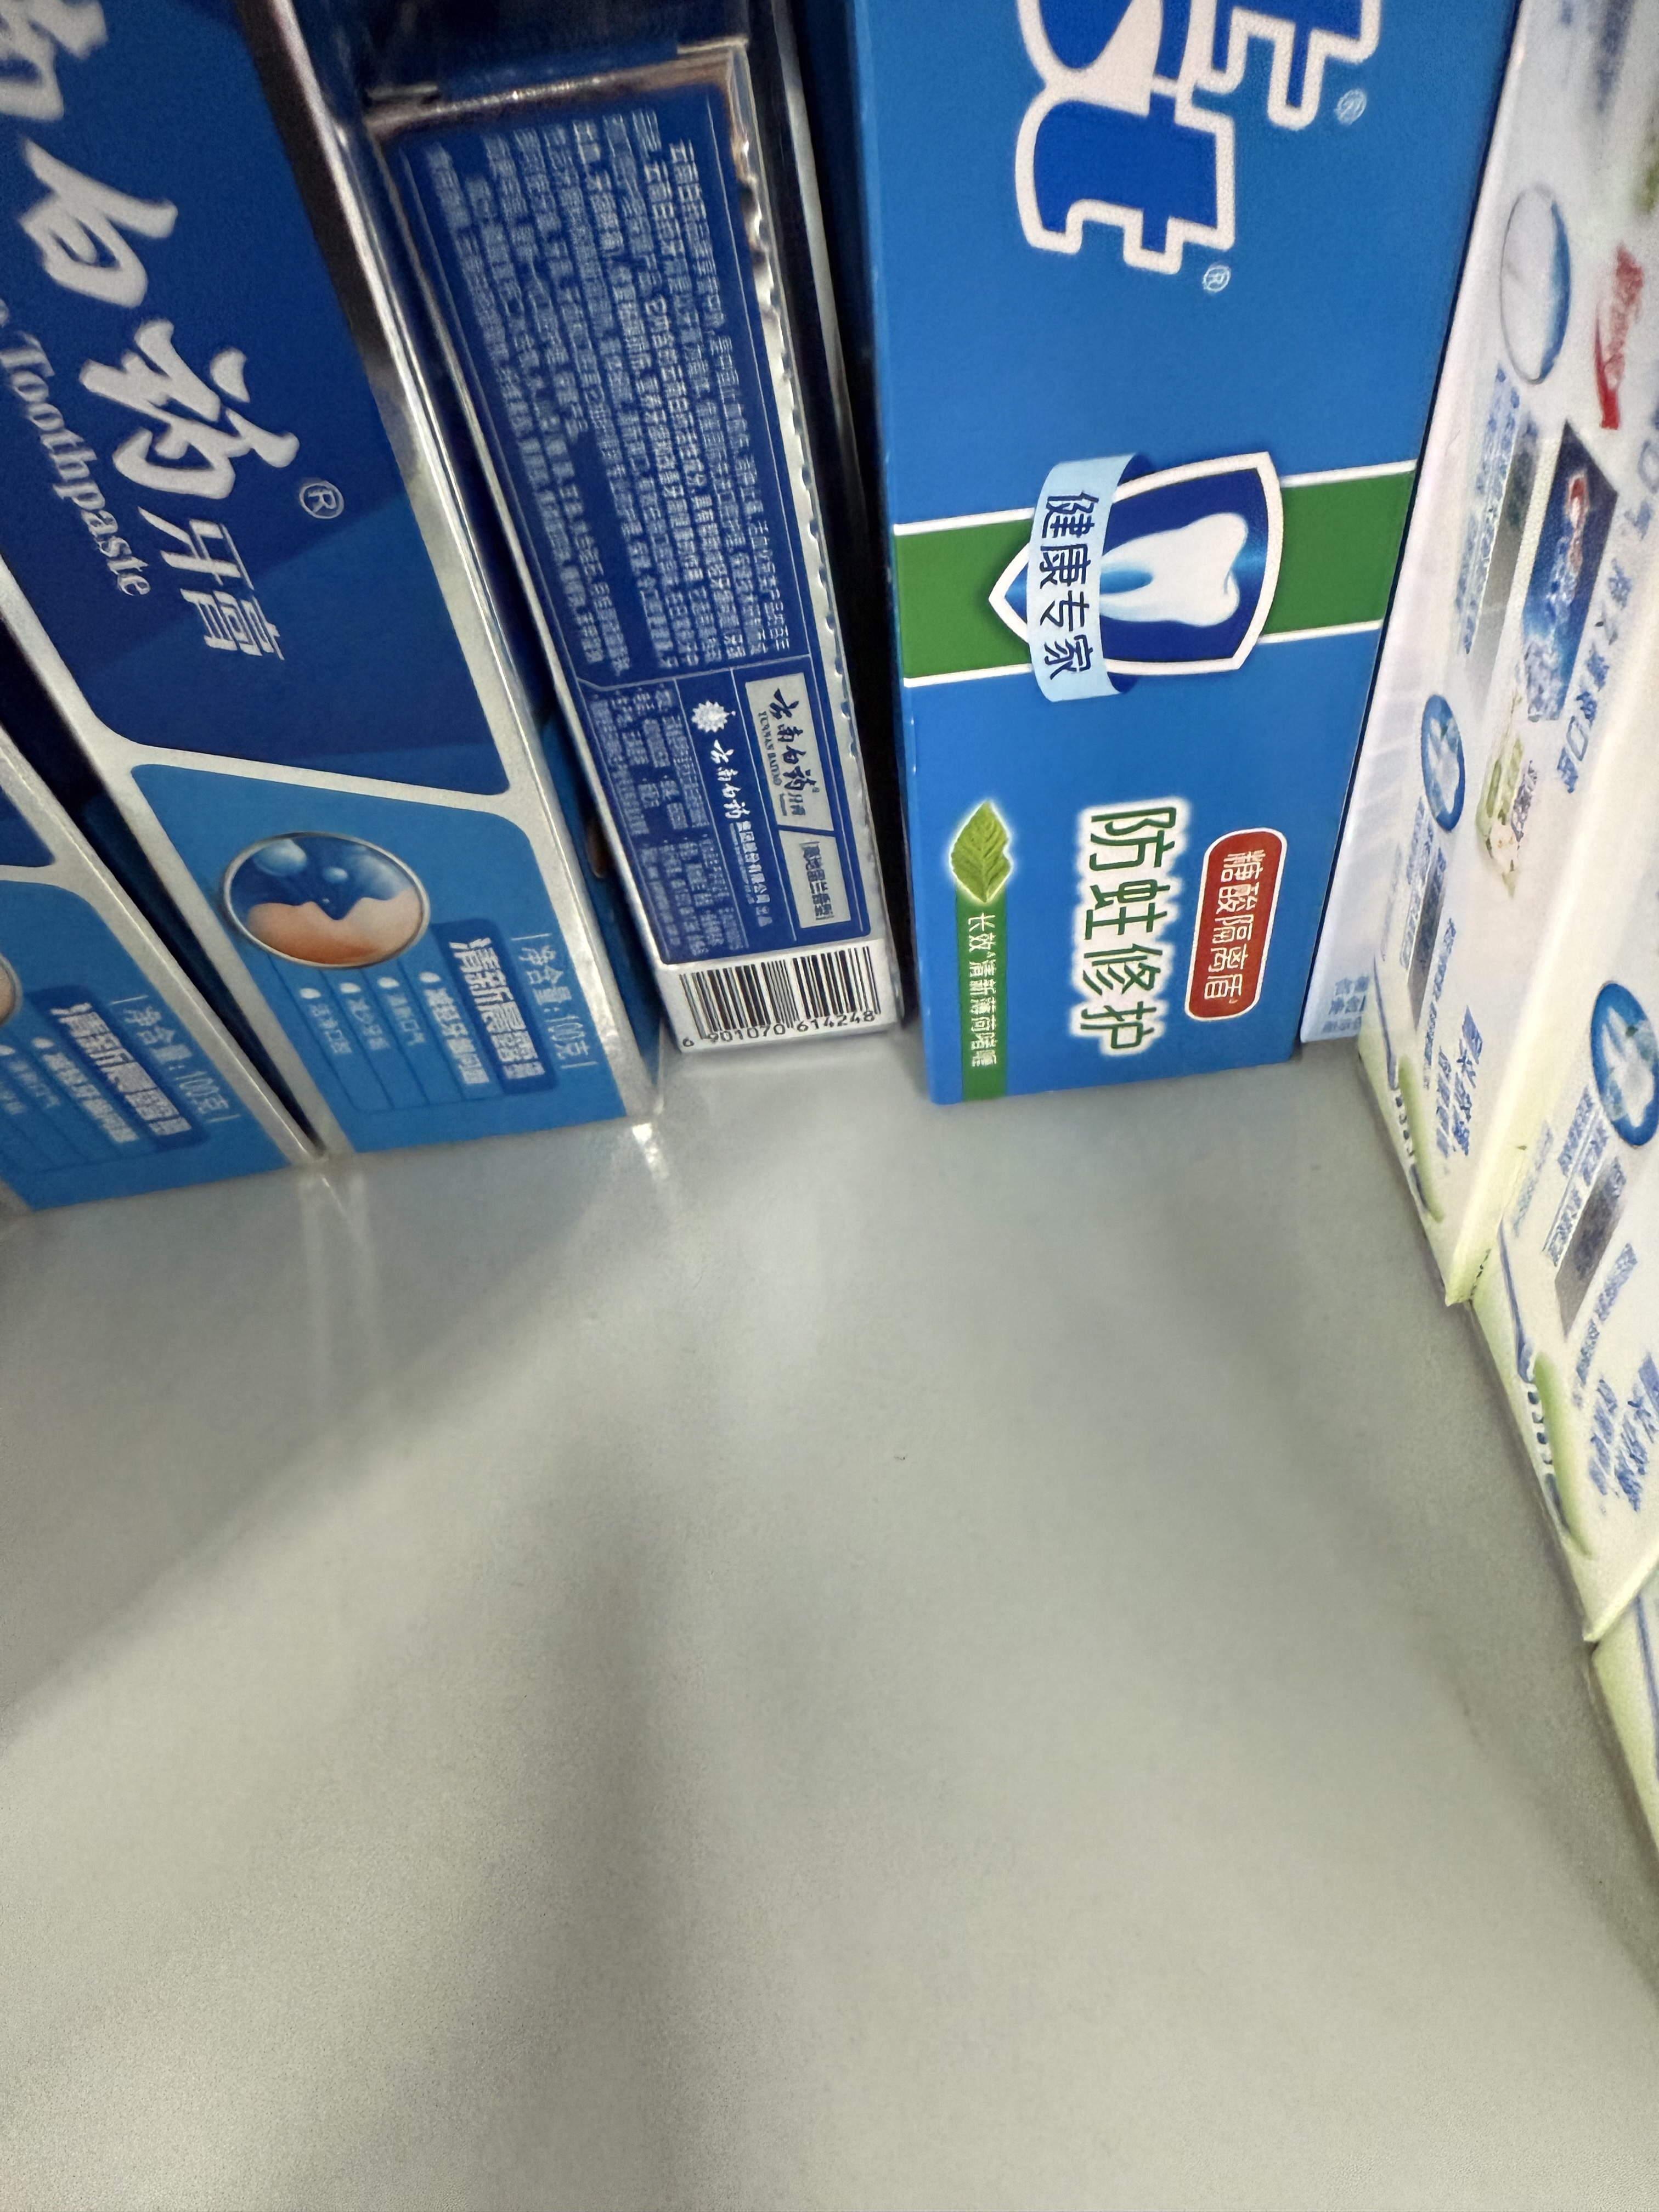bar: (676, 942, 887, 1043)
